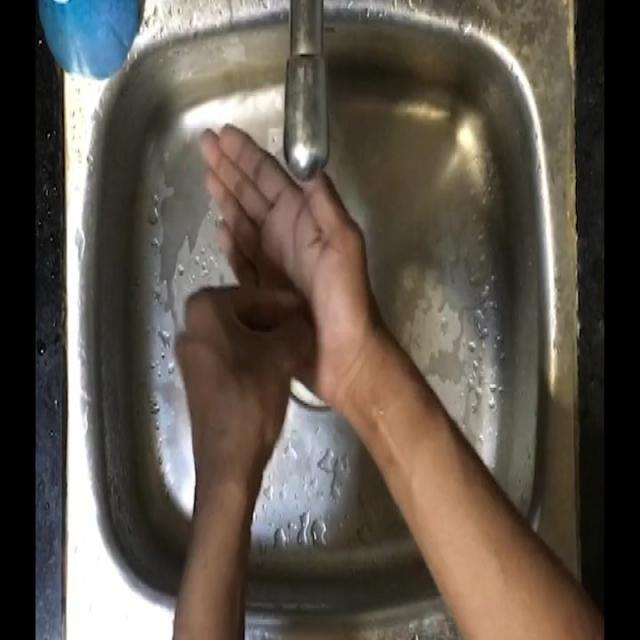step_6: (168, 111, 376, 462)
